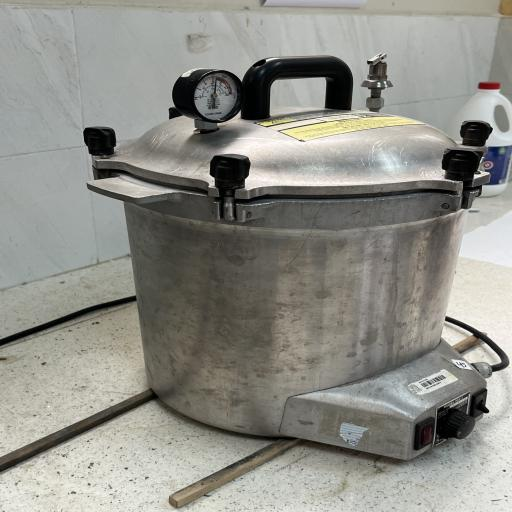Autoclave: (70, 46, 500, 467)
